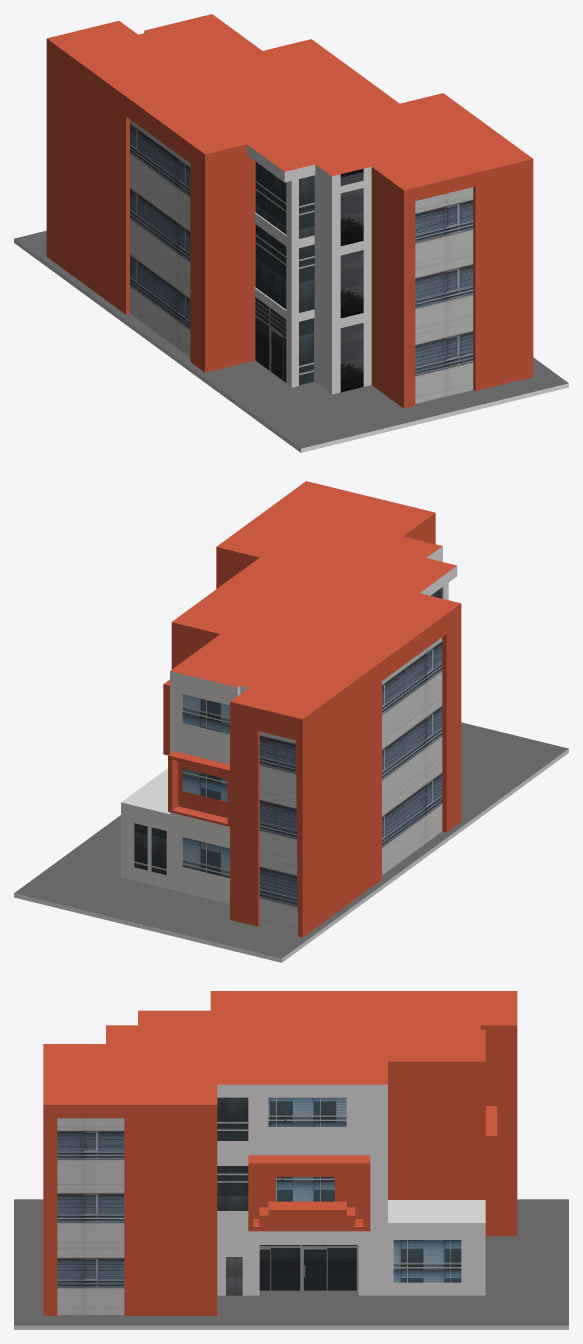
The model's file is mod-fie-an_1781134622633.glb.
3 views of the same model, one above another, from view 1: azimuth 30°, elevation 25°; view 2: azimuth 150°, elevation 25°; view 3: azimuth 270°, elevation 25° (orthographic). The views are drawn at different scales.
Visible parts, largest first — view 1: Geom3D.003, Geom3D.010, Geom3D.002, Geom3D.004, Geom3D.006, Geom3D.009, Geom3D.011, Geom3D.001, Geom3D; view 2: Geom3D.003, Geom3D.010, Geom3D.002, Geom3D.004, Geom3D.008, Geom3D.006, Geom3D.001, Geom3D, Geom3D.005; view 3: Geom3D.003, Geom3D.002, Geom3D.004, Geom3D.010, Geom3D.008, Geom3D.011, Geom3D.006, Geom3D.001, Geom3D.005, Geom3D.007.
Part boxes in pixels (<box>): Geom3D.003: <box>46,14,533,408</box>; Geom3D.010: <box>130,119,473,403</box>; Geom3D.002: <box>14,230,568,448</box>; Geom3D.004: <box>247,144,371,394</box>; Geom3D.006: <box>255,162,314,385</box>; Geom3D.009: <box>340,168,363,392</box>; Geom3D.011: <box>255,297,286,382</box>; Geom3D.001: <box>14,239,300,452</box>; Geom3D: <box>301,383,568,452</box>; Geom3D.003: <box>163,481,461,937</box>; Geom3D.010: <box>259,637,442,934</box>; Geom3D.002: <box>14,722,568,958</box>; Geom3D.004: <box>121,546,457,903</box>; Geom3D.008: <box>182,694,229,878</box>; Geom3D.006: <box>134,587,442,874</box>; Geom3D.001: <box>282,749,568,962</box>; Geom3D: <box>14,893,281,962</box>; Geom3D.005: <box>121,586,443,814</box>; Geom3D.003: <box>43,991,517,1315</box>; Geom3D.002: <box>14,1199,568,1325</box>; Geom3D.004: <box>217,1084,485,1295</box>; Geom3D.010: <box>57,1118,124,1314</box>; Geom3D.008: <box>268,1097,461,1282</box>; Geom3D.011: <box>259,1245,358,1290</box>; Geom3D.006: <box>217,1097,248,1210</box>; Geom3D.001: <box>14,1325,568,1329</box>; Geom3D.005: <box>388,1200,485,1222</box>; Geom3D.007: <box>226,1257,242,1295</box>.
Bounding box in the file's own units: 61.83 × 49.07 × 115.
11 materials, 6 textured.
